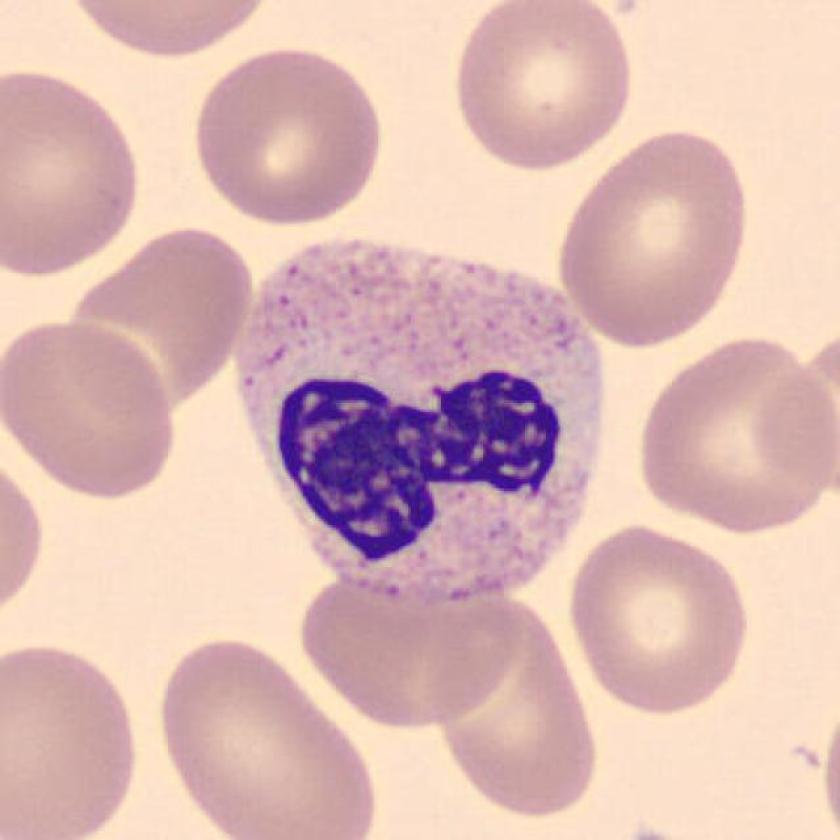neutrophil: (240, 240, 602, 603)
